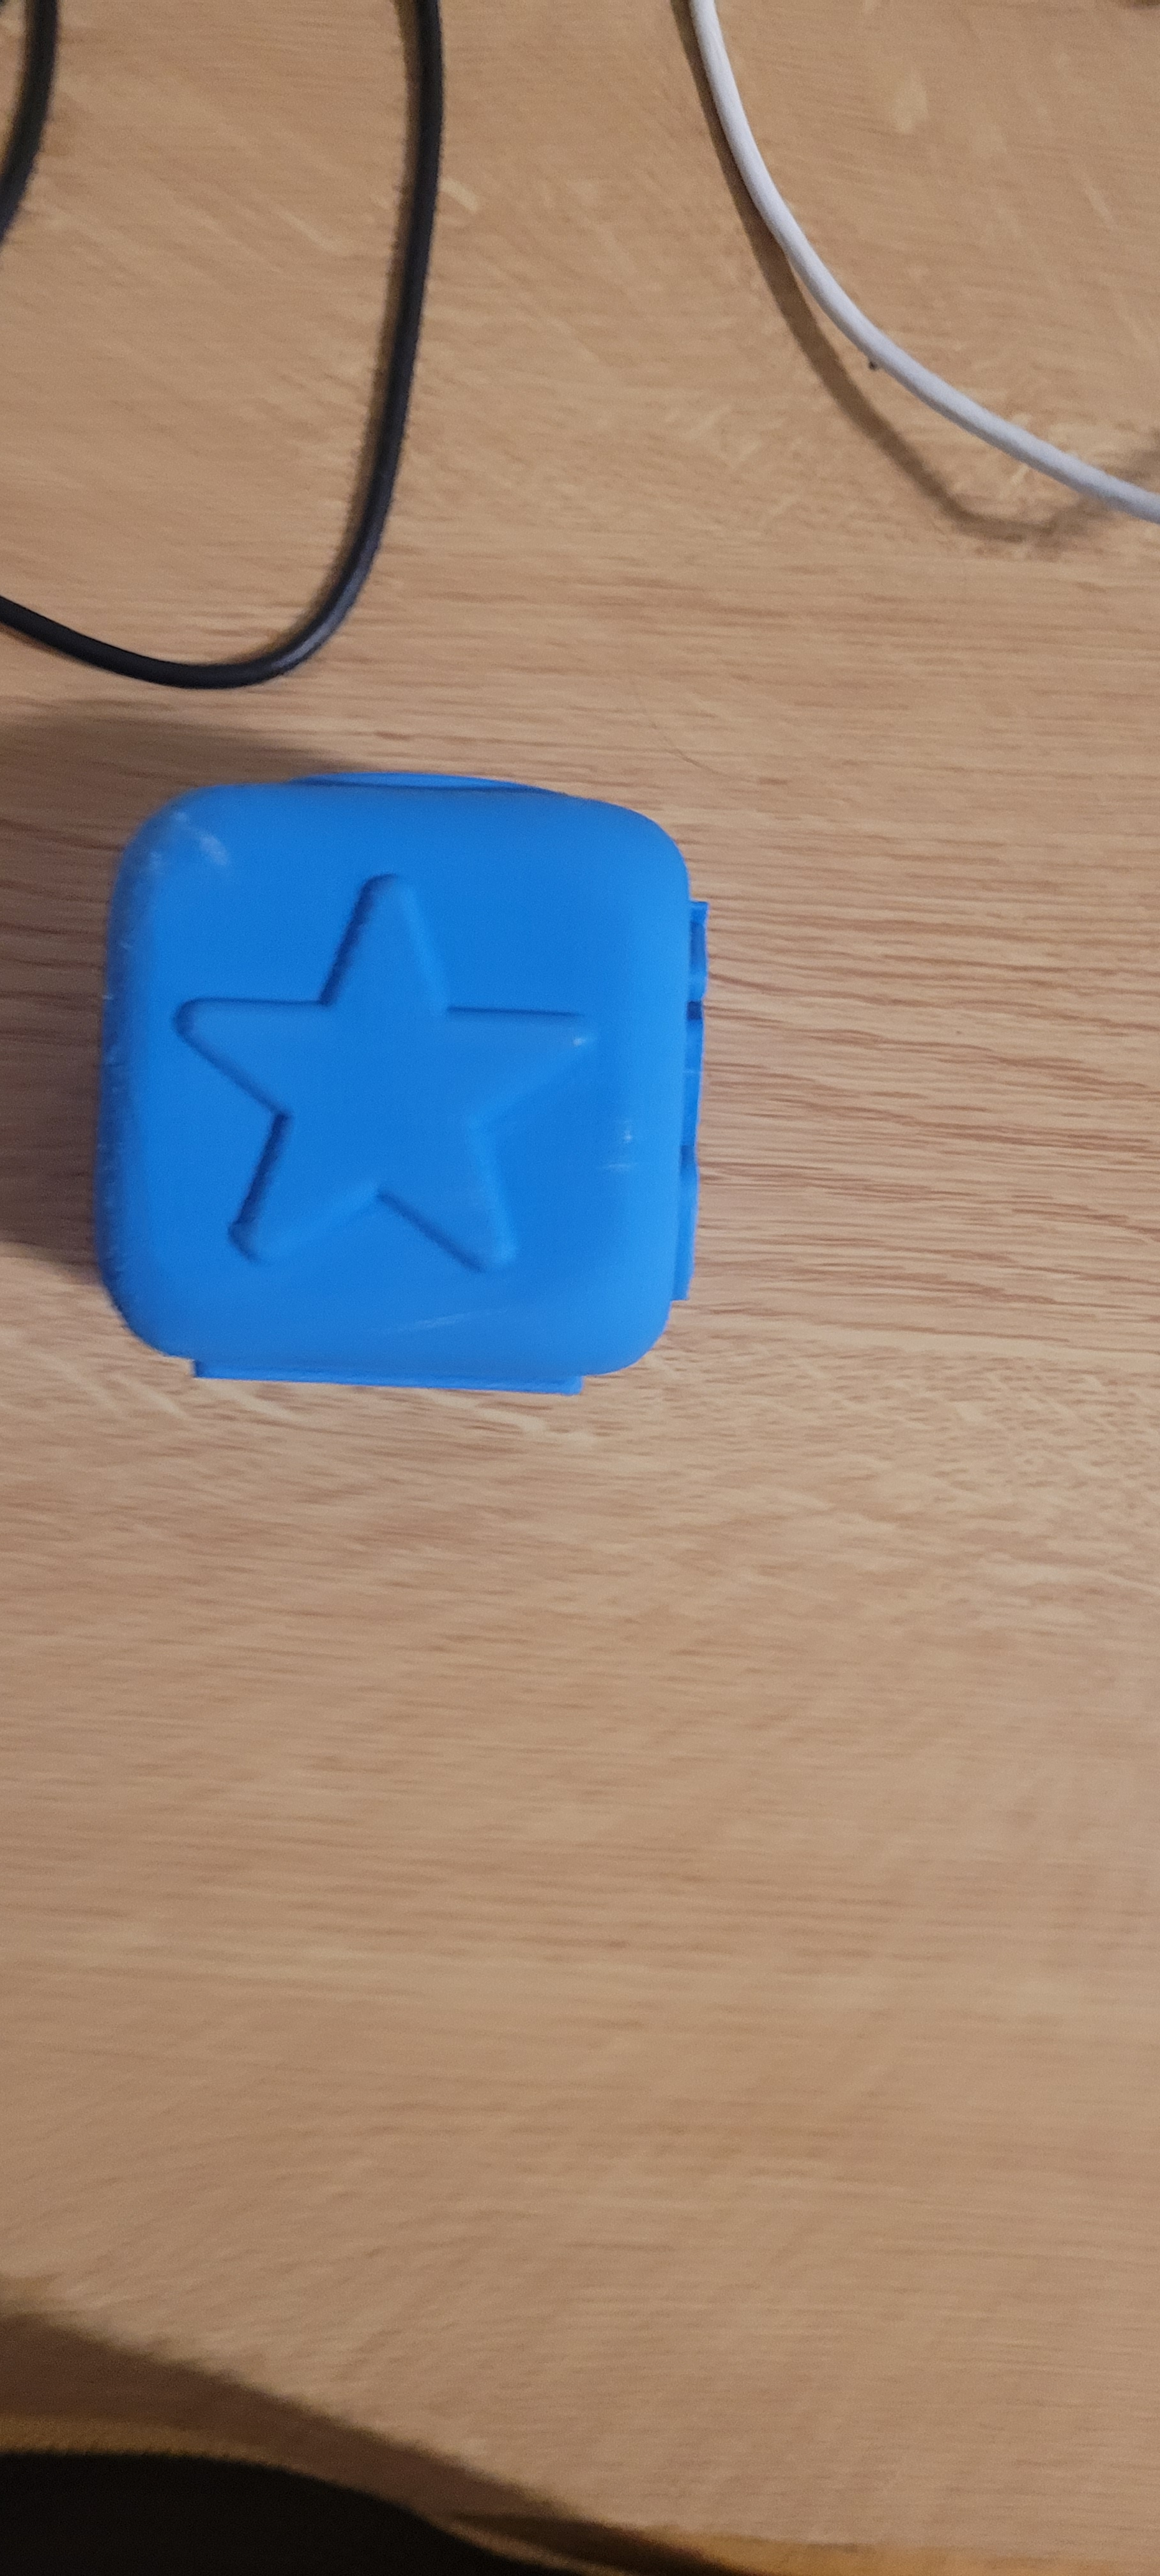Star: (72, 782, 685, 1360)
